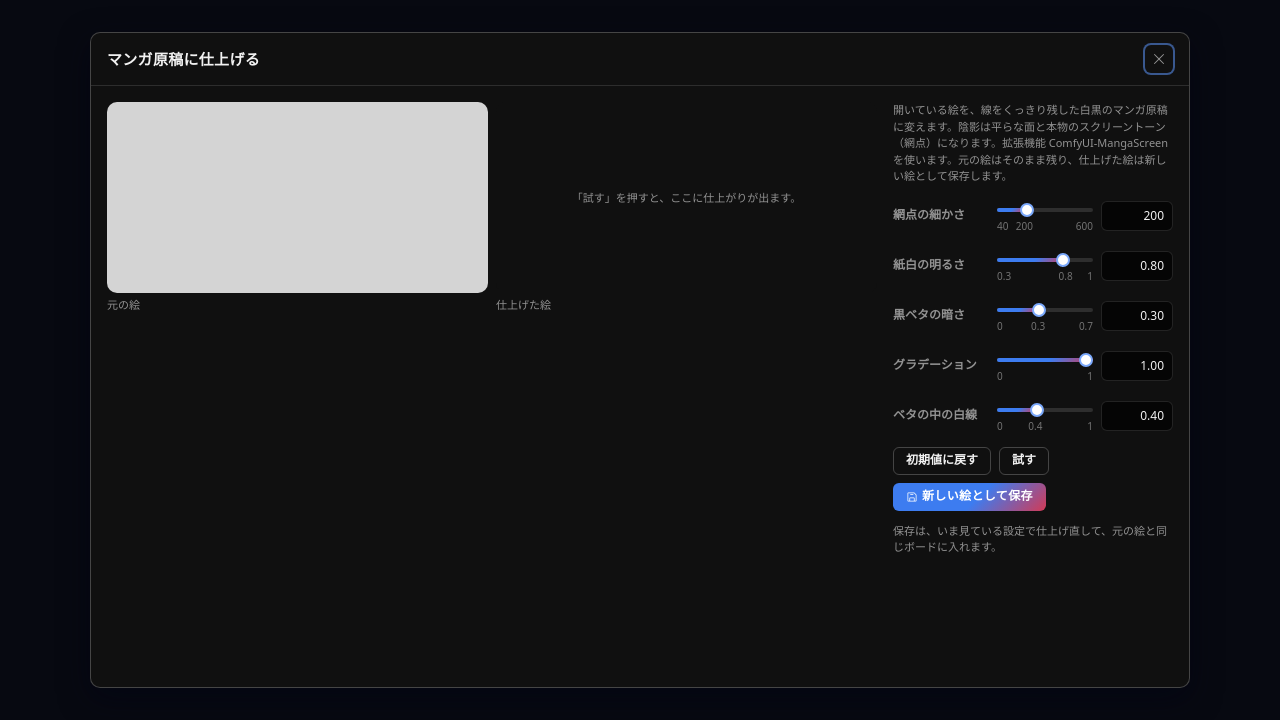
Test: the manga finish dialog › says why when the finish fails, and lets the user go on
Click the button with test id "manga-try-run". click: (1024, 460)
box: x1=999 y1=446 x2=1049 y2=474
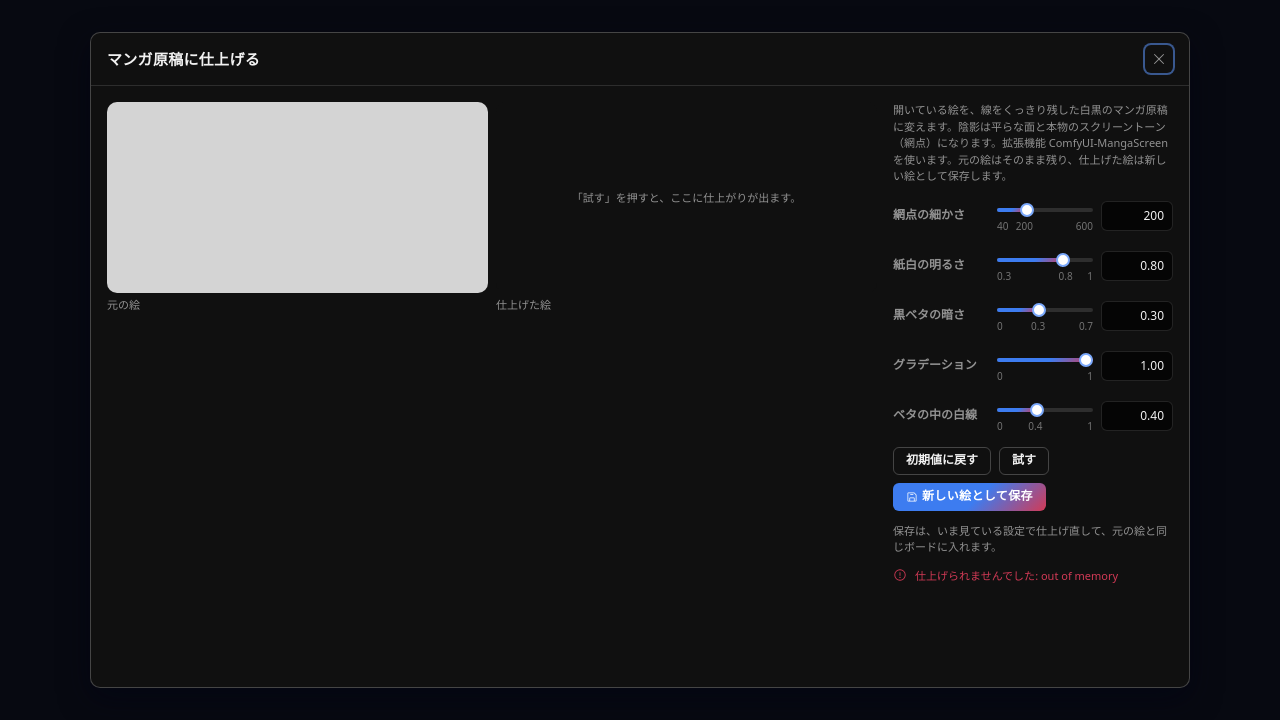
Expected: the message with test id "manga-error" shows "out of memory", x1=1041 y1=568 x2=1118 y2=582
